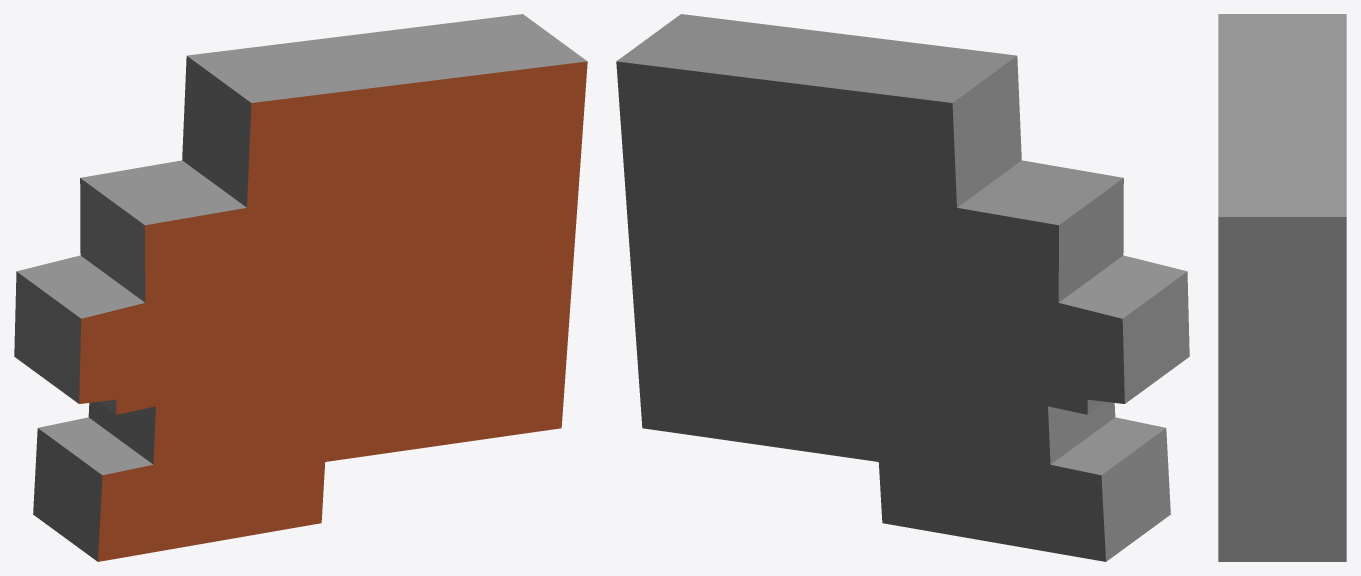
The model's file is construction_7059_assumed_A_Casa_h6m.obj.
3 renders of one model, left to right at view 1: azimuth 30°, elevation 25°; view 2: azimuth 150°, elevation 25°; view 3: azimuth 270°, elevation 25°, orthographic.
Parts seen in each view (by area): view 1: construction_7059_assumed_A_Casa; view 2: construction_7059_assumed_A_Casa; view 3: construction_7059_assumed_A_Casa.
Part boxes in pixels (bbox=[...]): construction_7059_assumed_A_Casa: bbox=[14, 14, 587, 561]; construction_7059_assumed_A_Casa: bbox=[616, 14, 1189, 561]; construction_7059_assumed_A_Casa: bbox=[1218, 14, 1346, 561].
Bounding box in the file's own units: 27.18 × 22.33 × 6.
